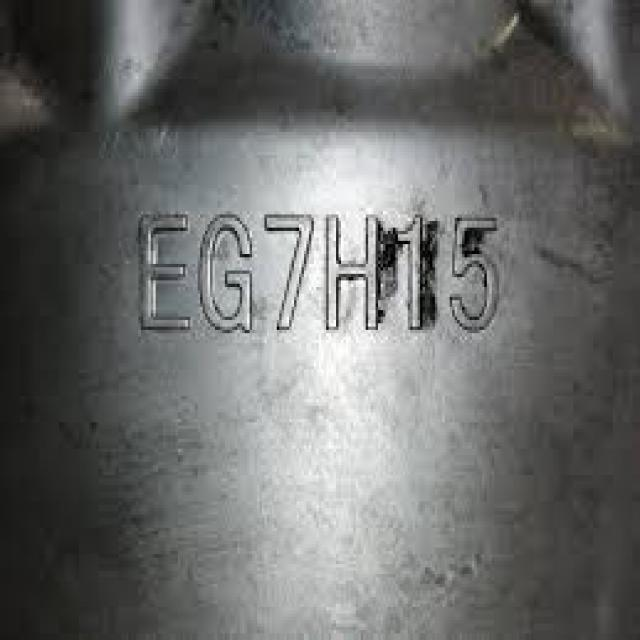ocr: (126, 178, 510, 363)
